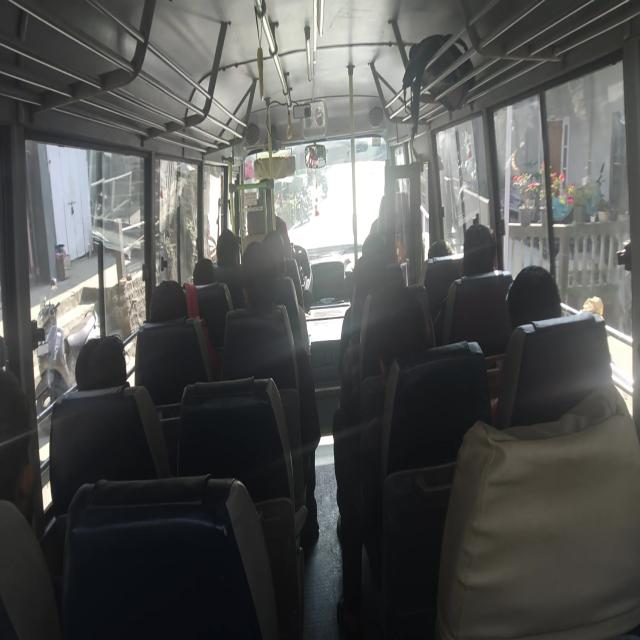person: (222, 240, 321, 542), (495, 264, 615, 428), (506, 264, 562, 330), (74, 334, 129, 391), (212, 228, 242, 309), (460, 223, 496, 276), (148, 280, 188, 322), (215, 228, 240, 268), (192, 258, 215, 285)
